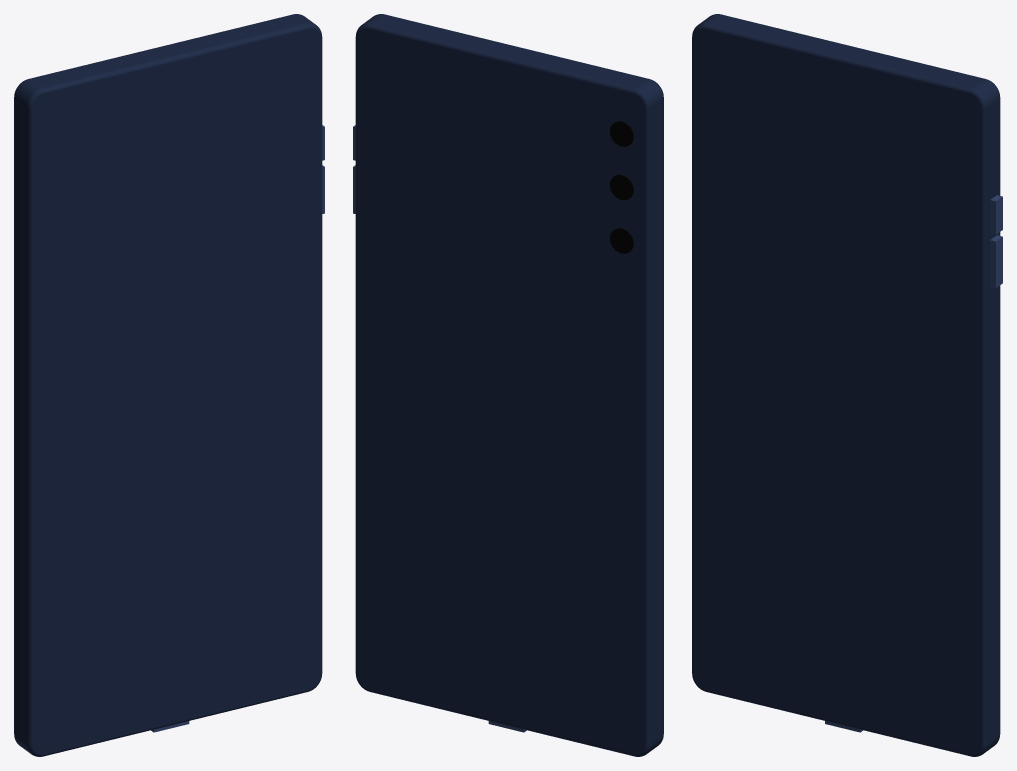
The model's file is samsung-galaxy-s25.glb.
The picture shows the model from 3 angles, left to right: view 1: azimuth 30°, elevation 25°; view 2: azimuth 150°, elevation 25°; view 3: azimuth 330°, elevation 25°; orthographic projection.
Visible parts, largest first — view 1: Body; view 2: Body; view 3: Body, Button_right_volume-up.
Boxes of the visible parts, x1,y1,x2,y2 form: Body: [14, 14, 322, 756]; Body: [355, 14, 663, 756]; Body: [692, 14, 1000, 756]; Button_right_volume-up: [990, 235, 1002, 288].
Bounding box in the file's own units: 0.0918 × 0.1968 × 0.0093.
